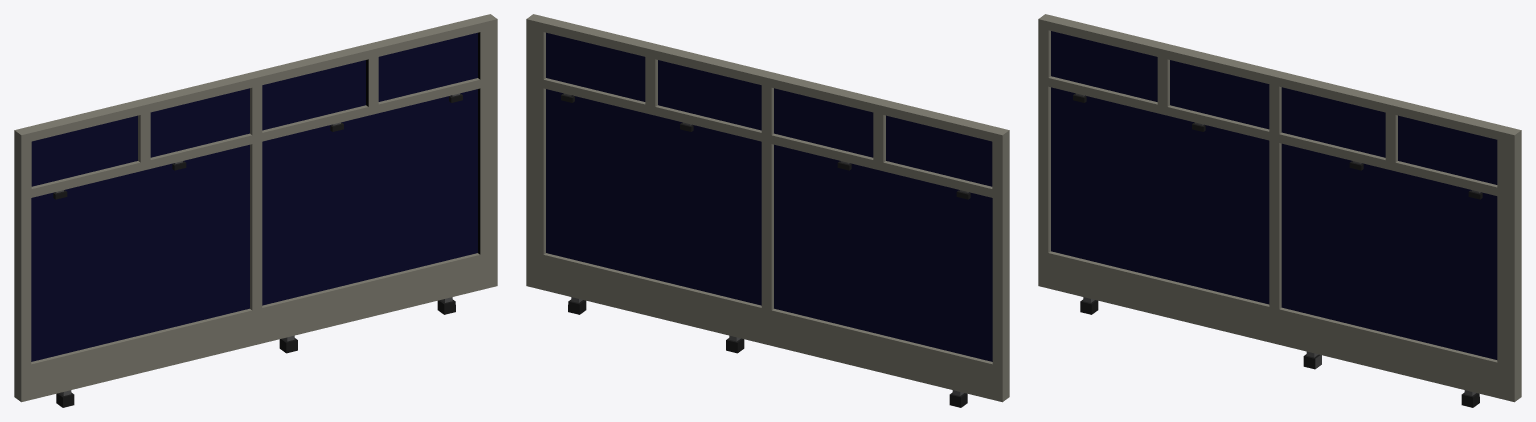
File: Office_Dividers.fbx
3 views of the same model, side by side, from view 1: azimuth 30°, elevation 25°; view 2: azimuth 150°, elevation 25°; view 3: azimuth 330°, elevation 25° (orthographic).
Parts seen in each view (by area): view 1: Divider_Full_Double, Divider_Full_Single, Divider_Half_Double, Divider_Half_Single; view 2: Divider_Full_Double, Divider_Full_Single, Divider_Half_Double, Divider_Half_Single; view 3: Divider_Full_Double, Divider_Full_Single, Divider_Half_Double, Divider_Half_Single.
Part boxes in pixels (left/top/right/bottom): Divider_Full_Double: left=14, top=15, right=497, bottom=407; Divider_Full_Single: left=250, top=21, right=490, bottom=353; Divider_Half_Double: left=15, top=14, right=497, bottom=199; Divider_Half_Single: left=134, top=43, right=378, bottom=170; Divider_Full_Double: left=526, top=15, right=1009, bottom=407; Divider_Full_Single: left=533, top=21, right=773, bottom=353; Divider_Half_Double: left=526, top=14, right=1008, bottom=199; Divider_Half_Single: left=645, top=45, right=886, bottom=170; Divider_Full_Double: left=1038, top=15, right=1521, bottom=407; Divider_Full_Single: left=1269, top=76, right=1507, bottom=407; Divider_Half_Double: left=1038, top=14, right=1520, bottom=199; Divider_Half_Single: left=1157, top=43, right=1398, bottom=171.
Bounding box in the file's own units: 200 × 114 × 5.08.
